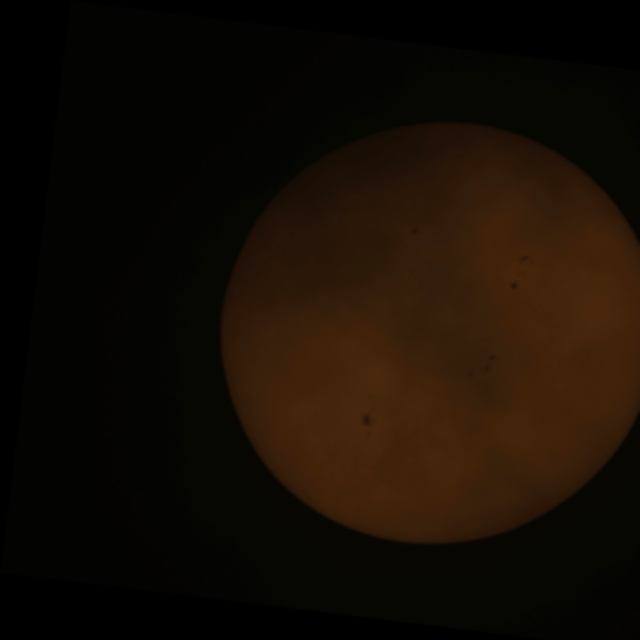sunspot: (512, 252, 534, 287), (359, 411, 377, 434), (517, 253, 534, 269), (508, 280, 520, 292)
